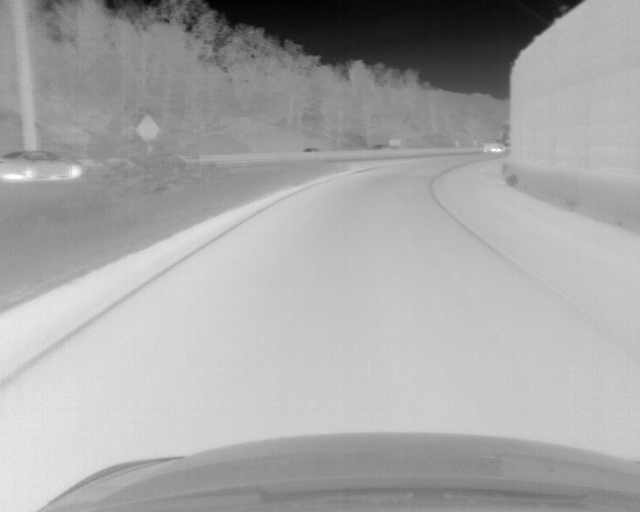car: (1, 150, 83, 180), (482, 141, 505, 153)
